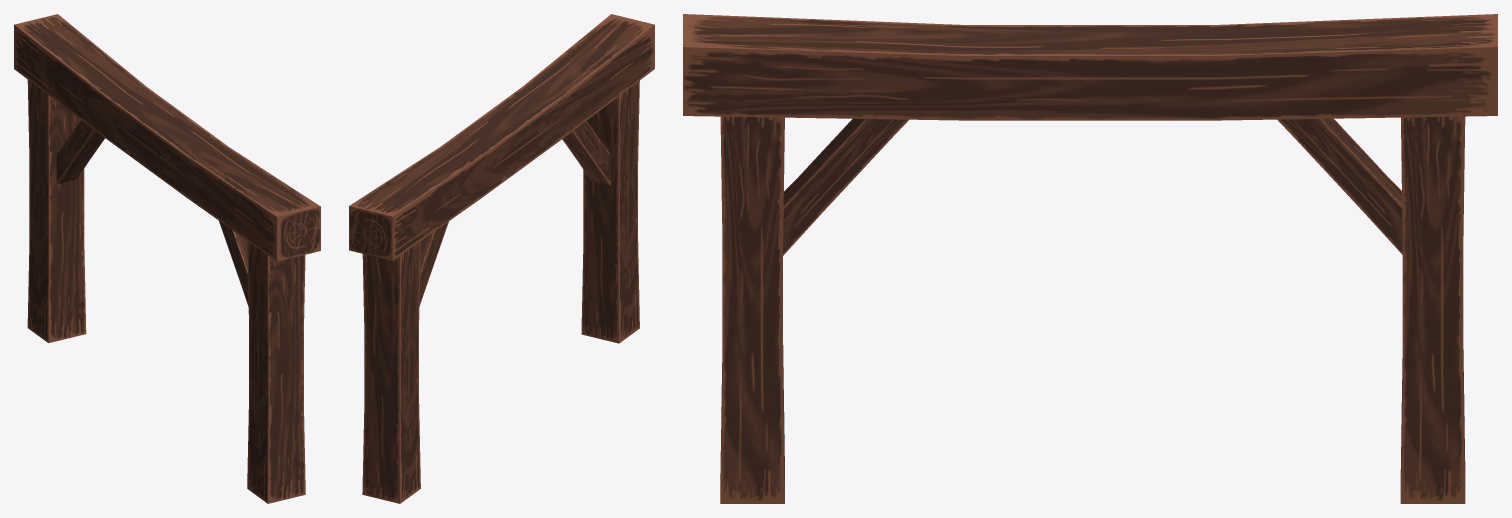
File: Wood_gate.fbx
3 views of the same model, side by side, from view 1: azimuth 30°, elevation 25°; view 2: azimuth 150°, elevation 25°; view 3: azimuth 270°, elevation 25° (orthographic). The views are drawn at different scales.
Visible parts, largest first — view 1: Wood_gate; view 2: Wood_gate; view 3: Wood_gate.
Boxes of the visible parts, x1,y1,x2,y2 form: Wood_gate: [14, 14, 320, 503]; Wood_gate: [349, 14, 654, 503]; Wood_gate: [683, 14, 1497, 503].
Size of the model in its own units: 0.3963 by 2.57 by 4.13.
